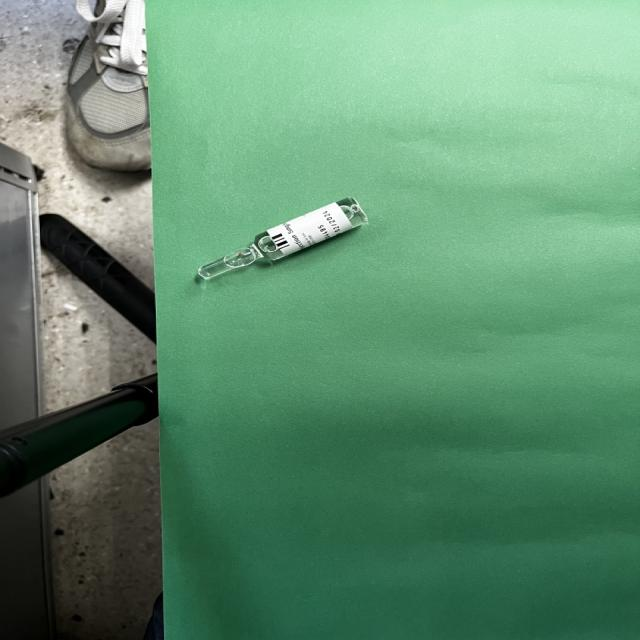Ampoules: (197, 198, 367, 280)
